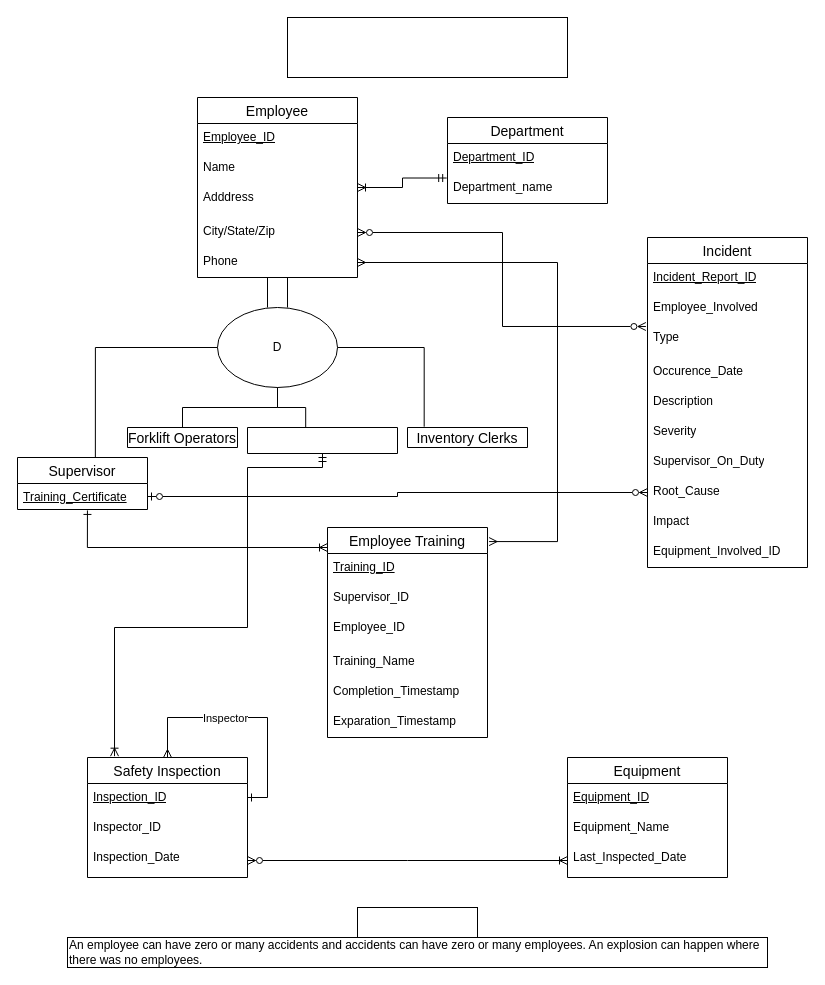
The diagram is 825 pixels wide and 985 high, and some of its shapes have lost their labels. Each missing label, with the centre of its shape:
"Assumptions" belongs at pixel 417 922.
"Equipment Inspectors" belongs at pixel 322 440.
"Hector Napier" belongs at pixel 427 47.
